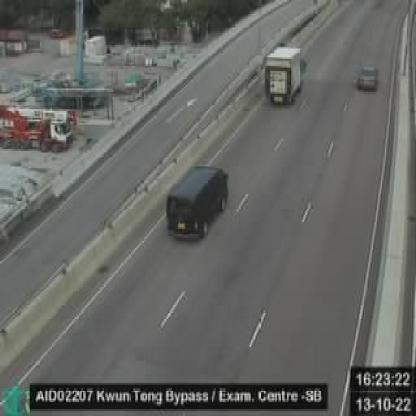Car: (164, 163, 228, 243), (356, 65, 378, 92)
Truck: (263, 47, 306, 104)
